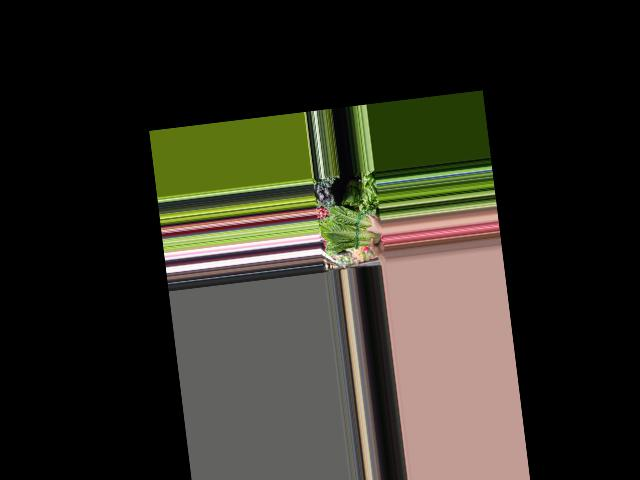lettuce: (320, 200, 385, 253)
